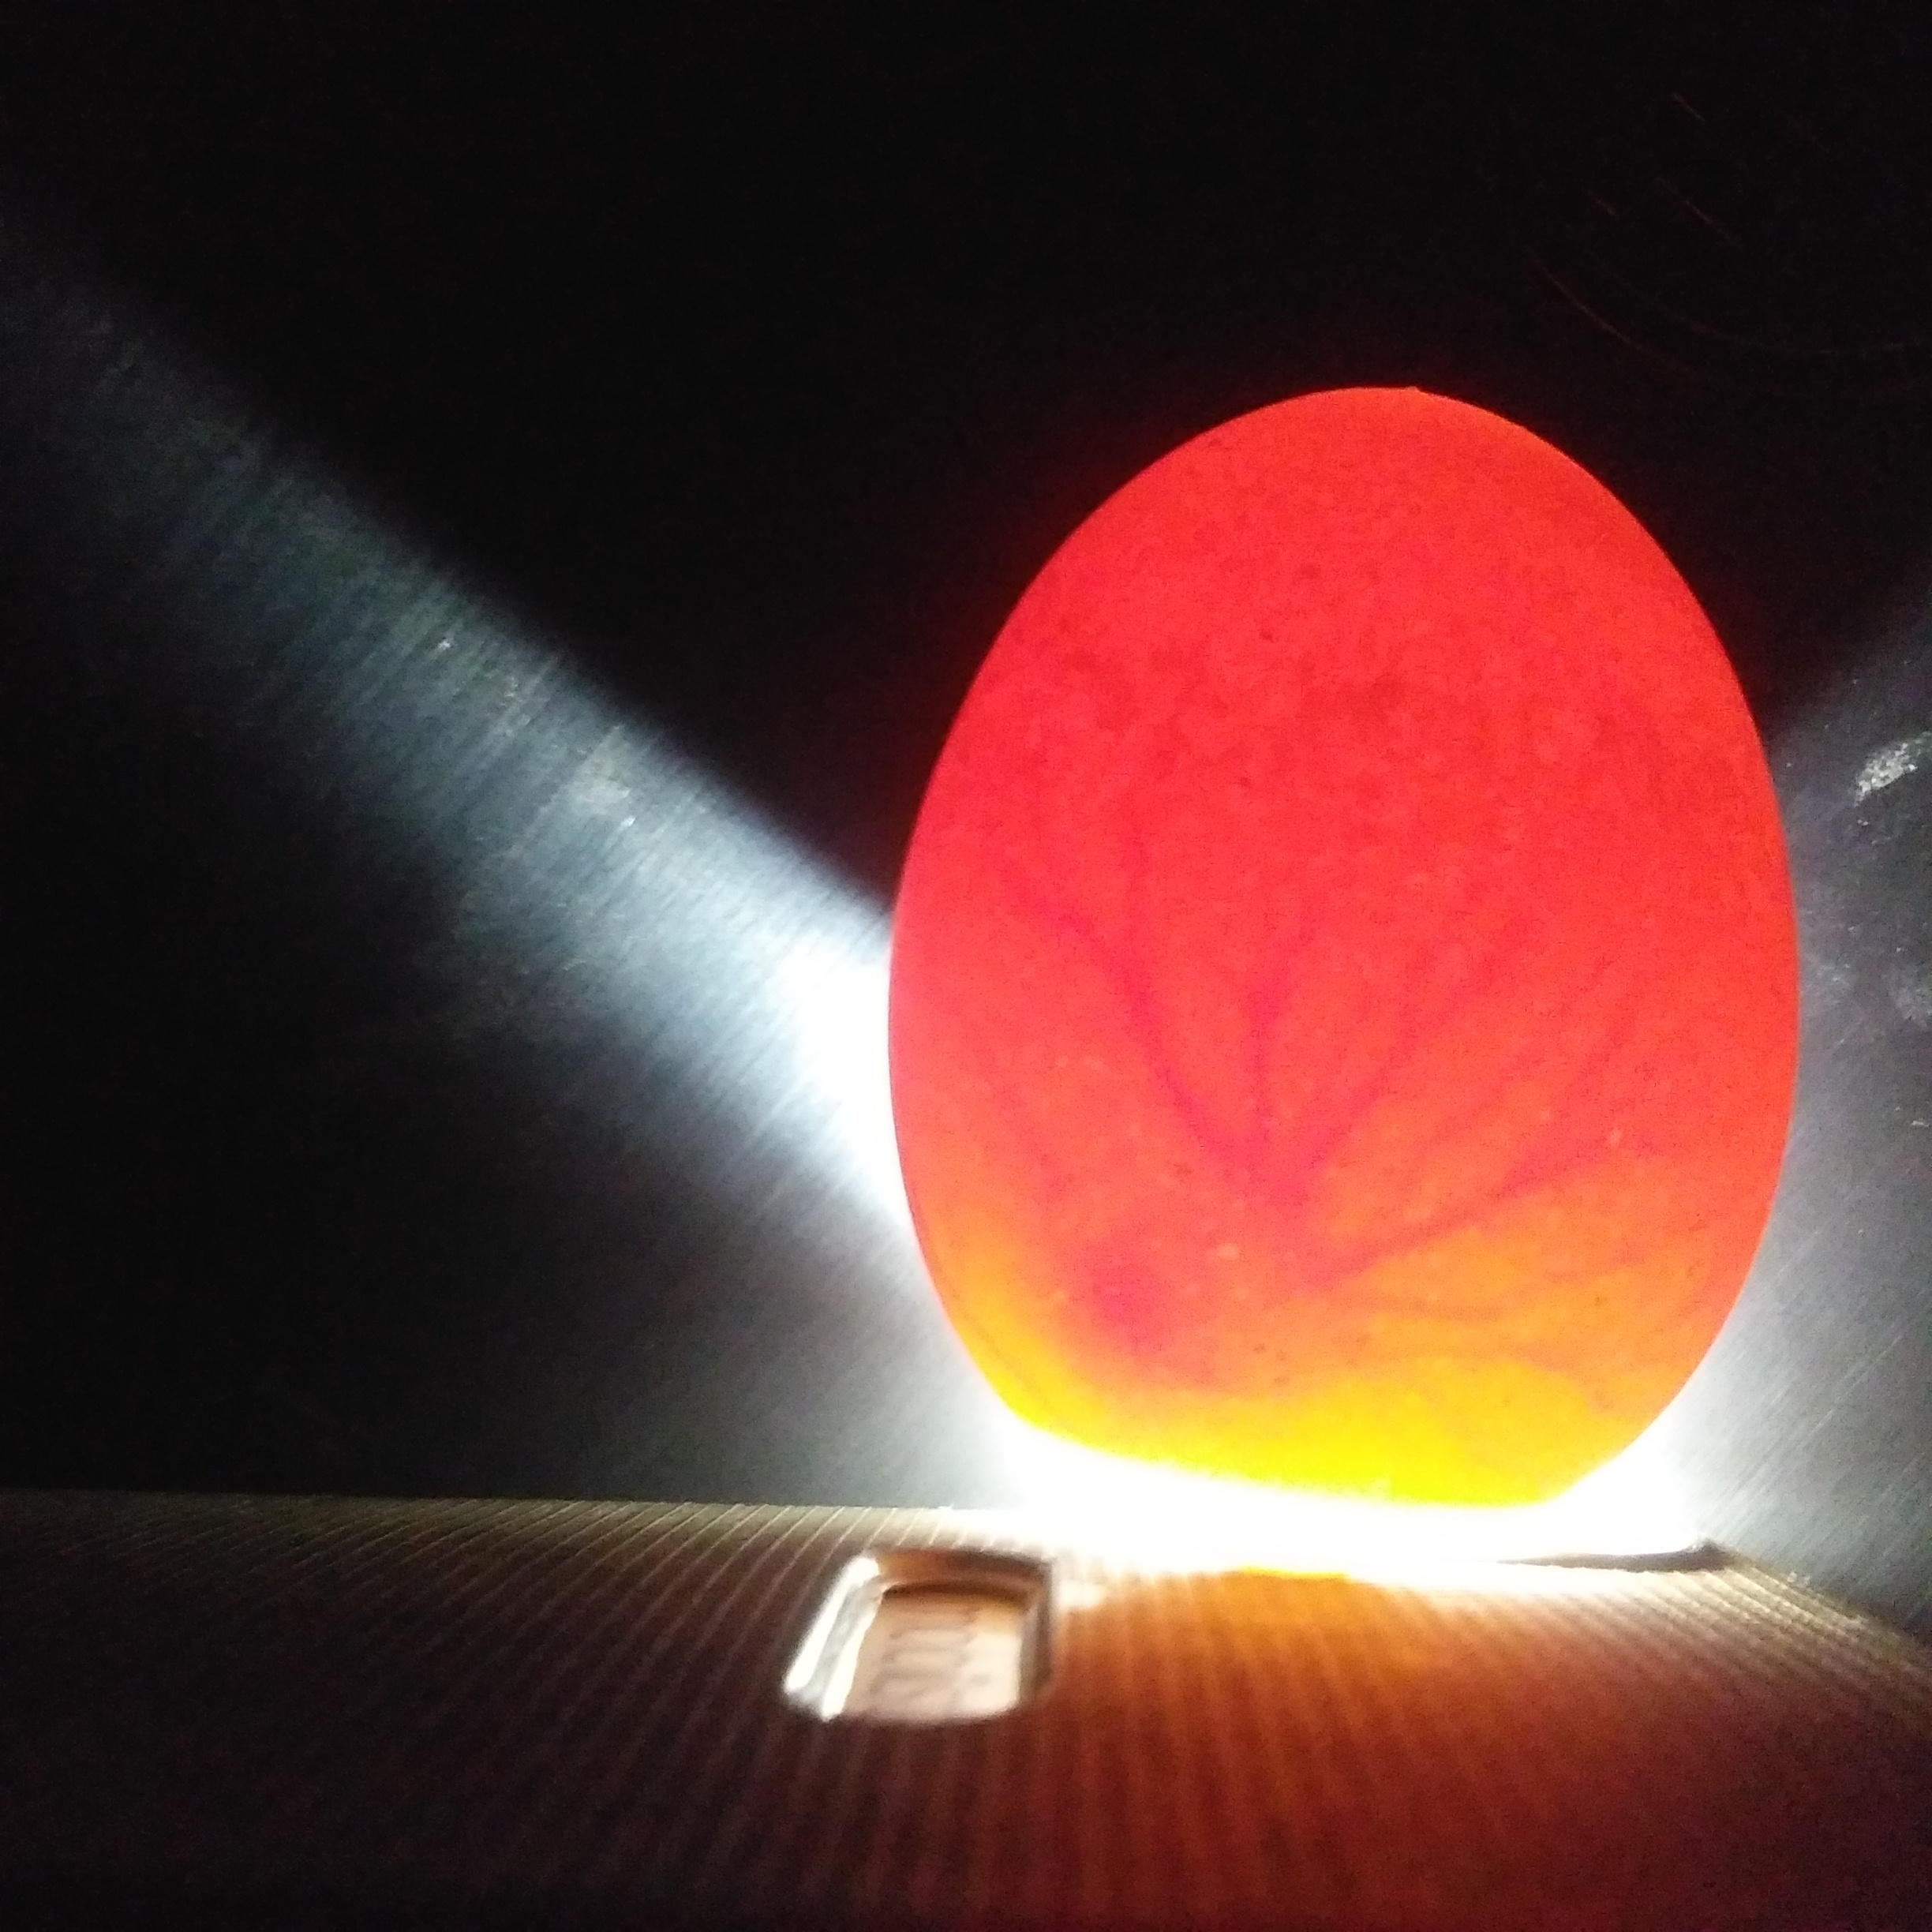bloodcell: (950, 1014, 1661, 1219)
embryo: (1097, 1270, 1307, 1384)
